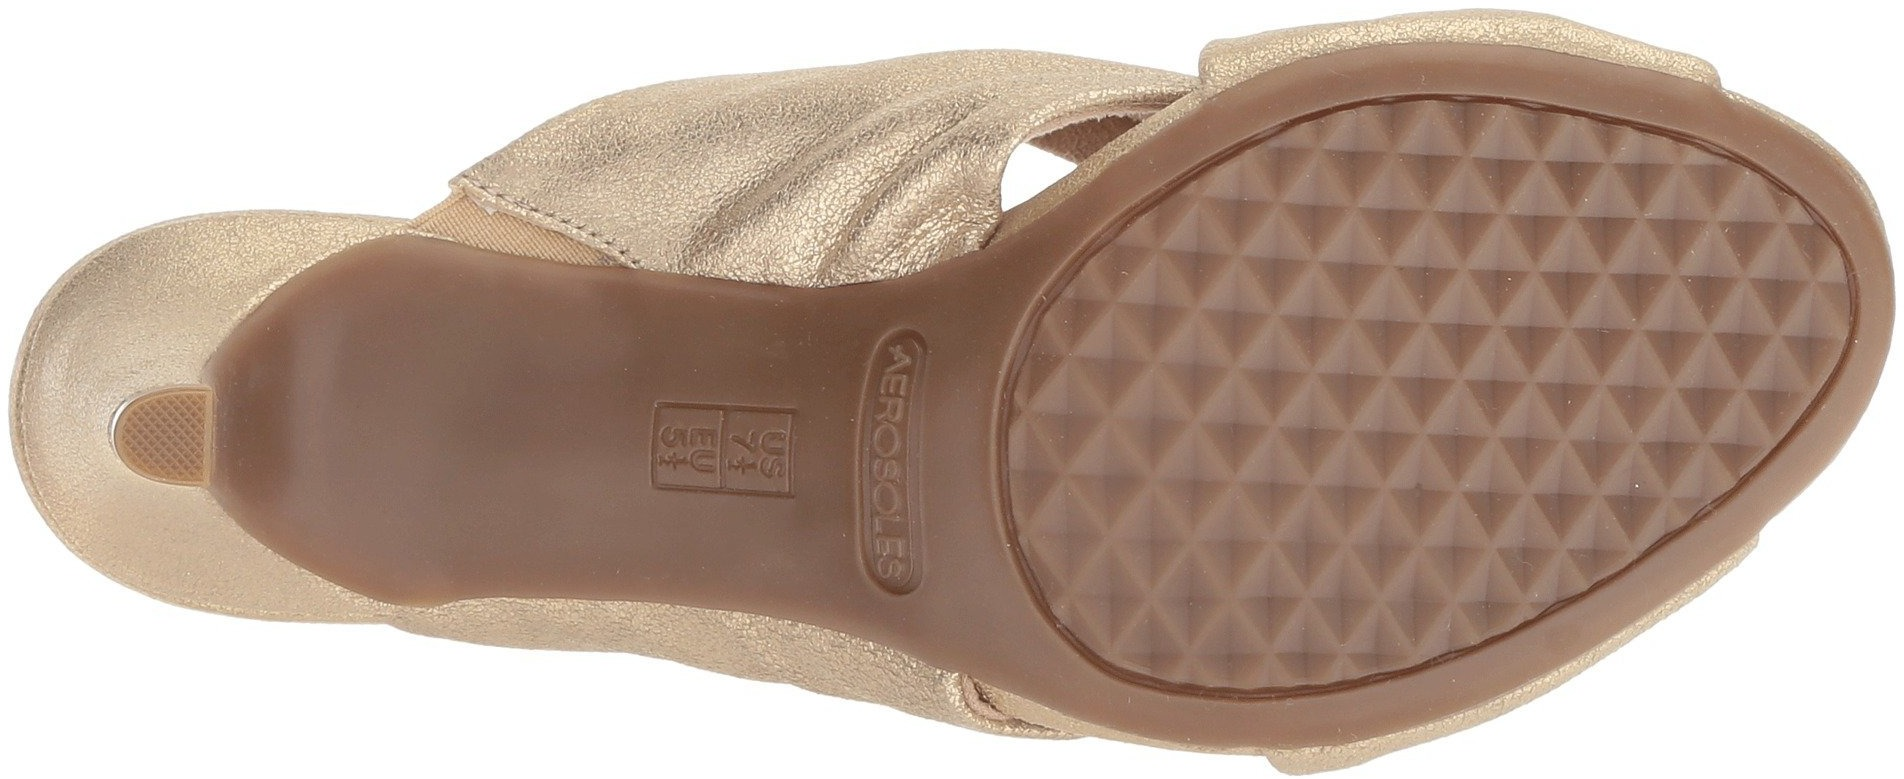exclude: (195, 46, 861, 720)
other: (140, 404, 200, 474)
quad: (1315, 354, 1593, 588), (1047, 307, 1308, 546), (1315, 127, 1563, 347), (1600, 191, 1813, 405)
text: (856, 427, 956, 525), (858, 320, 956, 416), (861, 535, 942, 615)
